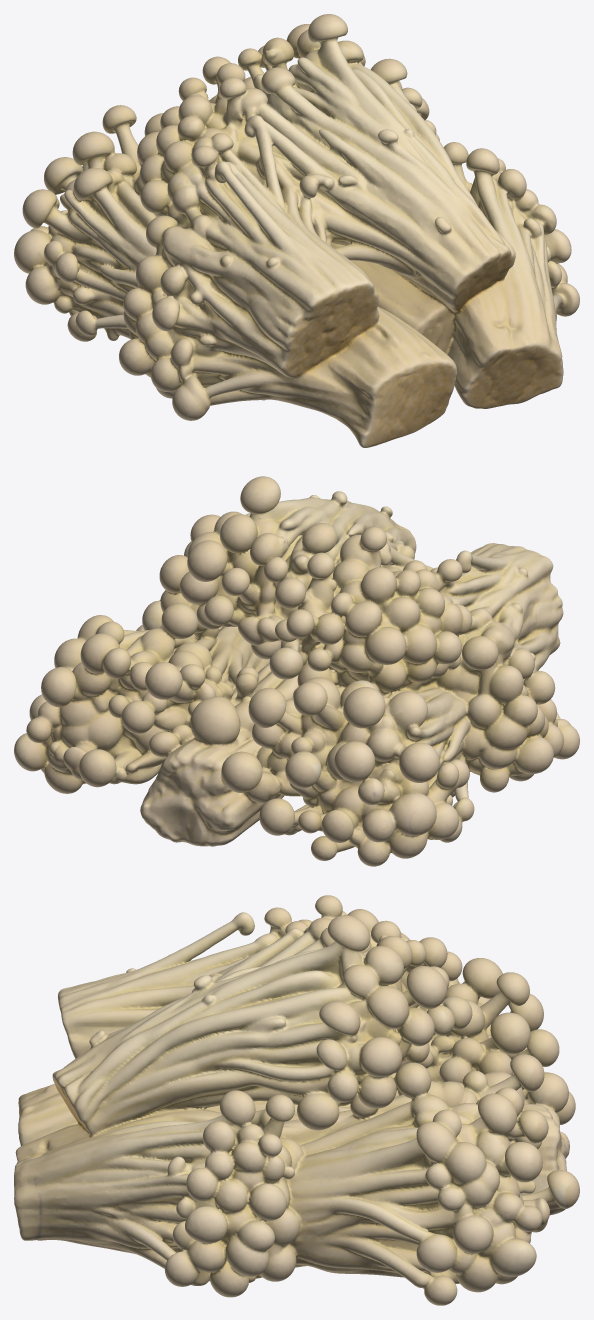
Rendered from enoki_mushroom.fbx.
3 renders of one model, top to bottom at view 1: azimuth 30°, elevation 25°; view 2: azimuth 150°, elevation 25°; view 3: azimuth 270°, elevation 25°, orthographic. The views are drawn at different scales.
Visible parts, largest first — view 1: Mesh_0; view 2: Mesh_0; view 3: Mesh_0.
Part boxes in pixels (bbox=[...]): Mesh_0: bbox=[14, 14, 579, 447]; Mesh_0: bbox=[14, 476, 579, 866]; Mesh_0: bbox=[14, 895, 579, 1305].
Size of the model in its own units: 170 by 114 by 190.
1 material, 1 textured.
